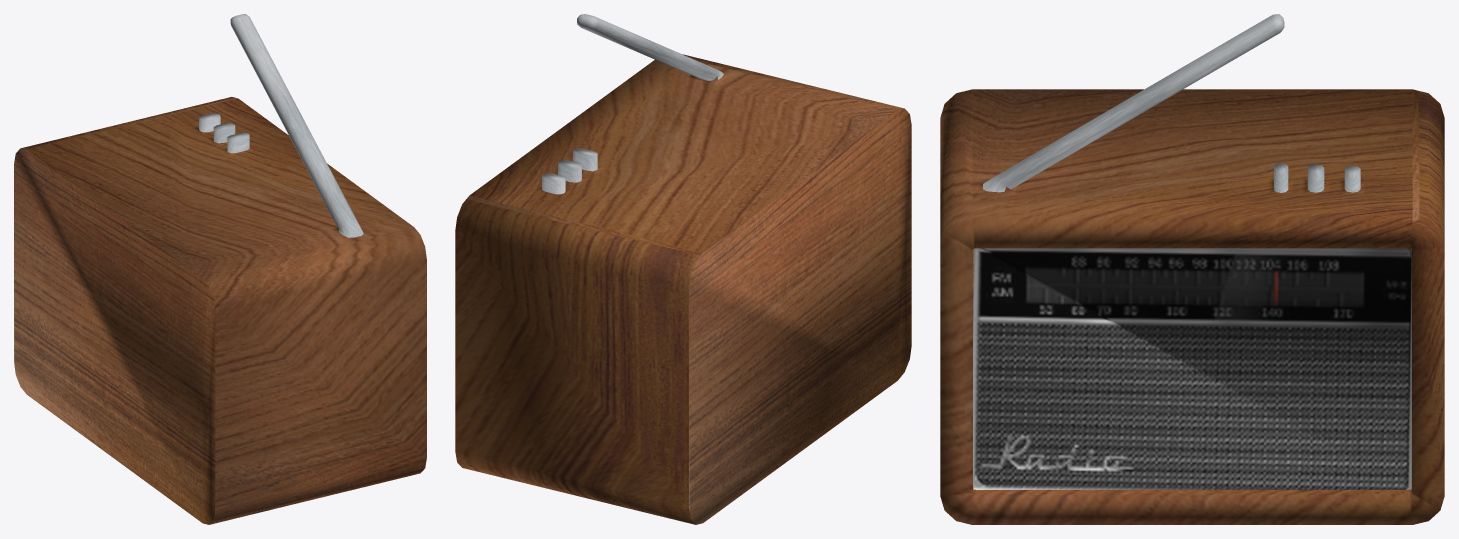
File: radio.fbx
3 views of the same model, side by side, from view 1: azimuth 30°, elevation 25°; view 2: azimuth 150°, elevation 25°; view 3: azimuth 270°, elevation 25° (orthographic). The views are drawn at different scales.
Parts seen in each view (by area): view 1: Cube; view 2: Cube; view 3: Cube.
Boxes of the visible parts, x1,y1,x2,y2 form: Cube: [14, 14, 426, 524]; Cube: [455, 14, 911, 524]; Cube: [940, 14, 1444, 524].
Bounding box in the file's own units: 65.61 × 113 × 108.
1 material, 1 textured.
